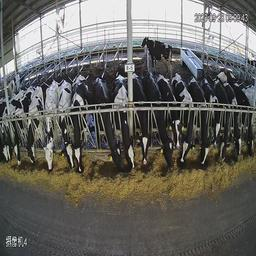cow: (140, 70, 173, 170), (92, 76, 124, 172), (111, 74, 135, 171), (171, 73, 195, 163), (187, 74, 209, 167), (157, 76, 184, 149), (12, 83, 34, 165), (230, 82, 254, 156), (130, 72, 149, 165), (71, 74, 88, 174), (57, 78, 74, 170), (140, 35, 174, 81), (213, 80, 231, 160), (201, 77, 221, 148), (26, 84, 43, 166), (44, 80, 59, 172), (223, 82, 241, 156), (6, 90, 24, 162), (2, 92, 16, 163)
